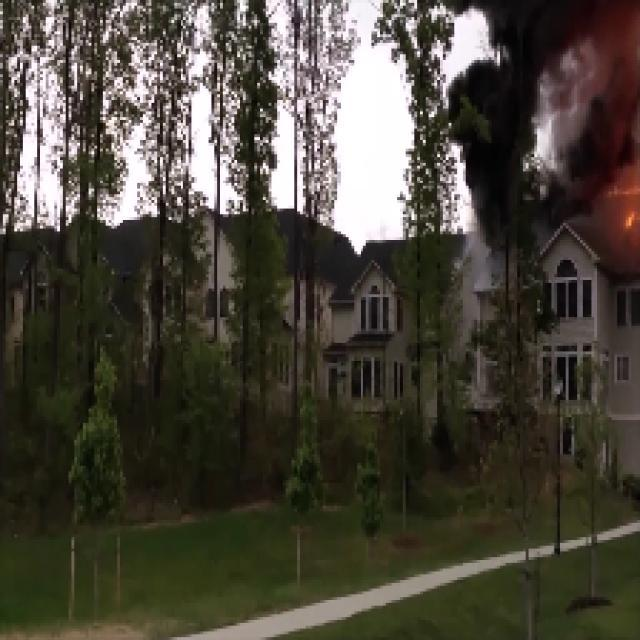Smoke: (456, 1, 624, 204)
